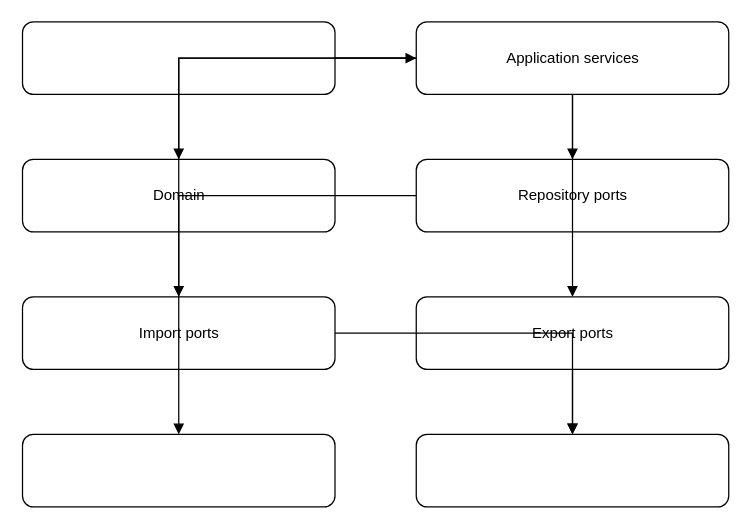
Some shapes in this 750 by 529 pixel diagram are drawn without their labels. The centre of each missing label's shape, as x and y in pixels:
"AtlasData / Markdown / Doorstop" goes at (x=572, y=470).
"CLI adapter" goes at (x=178, y=57).
"Filesystem / Docling" goes at (x=178, y=470).
